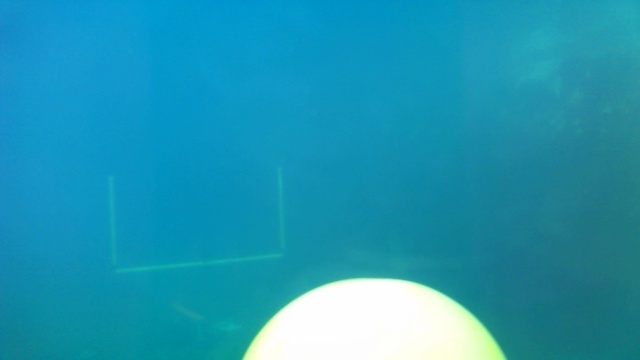channel: (100, 166, 290, 278)
